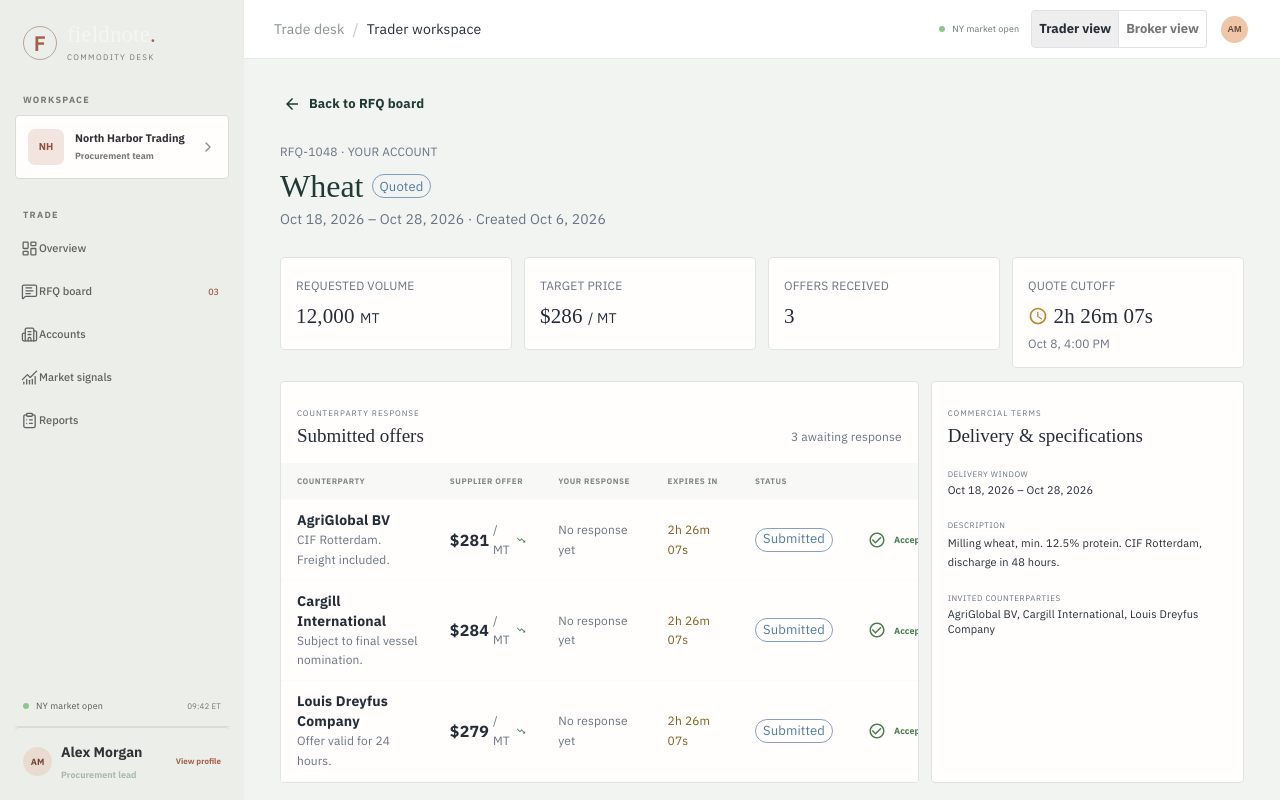
Scenario: accepting a counterparty quote executes the RFQ
The image size is (1280, 800).
Click the button "Accept" in the row of "CIF Rotterdam. Freight included.": (897, 540) [865,528,928,552]
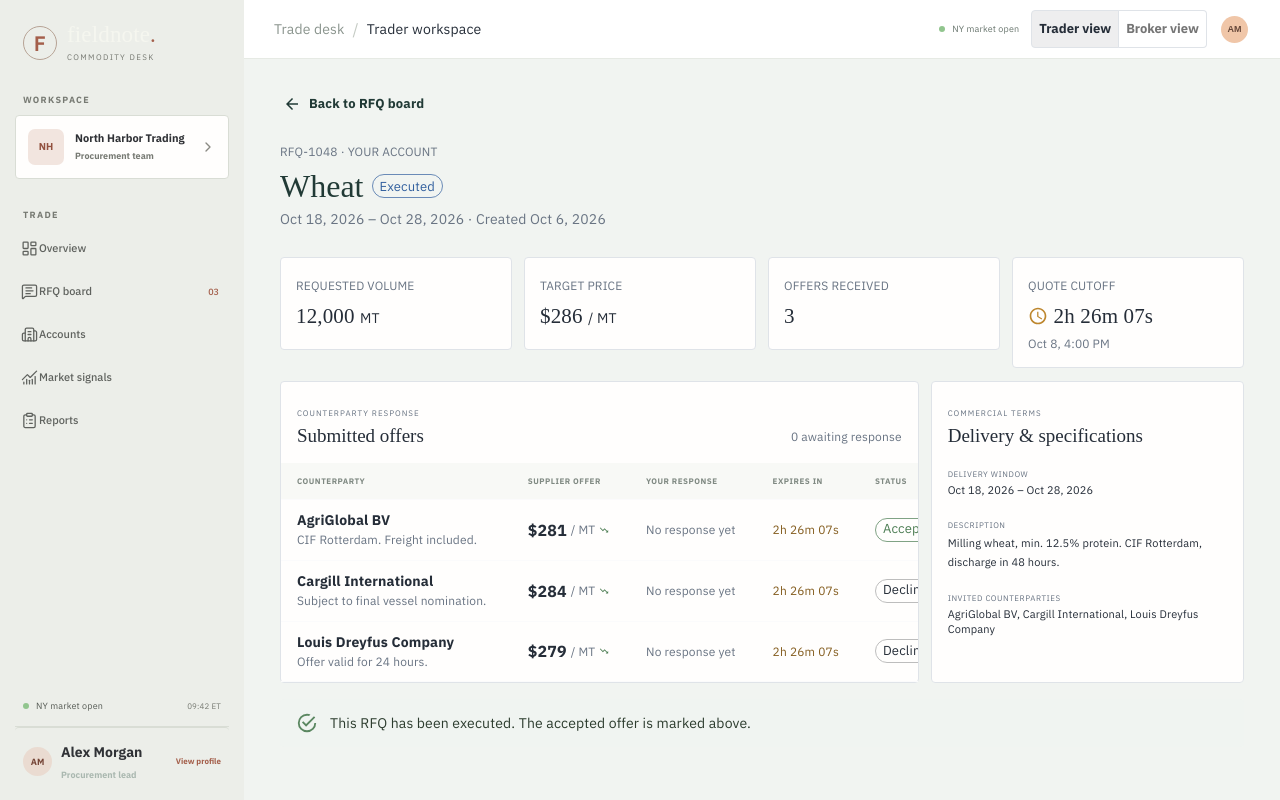
Expected: the text "Executed" is shown, [380,178,435,195]
